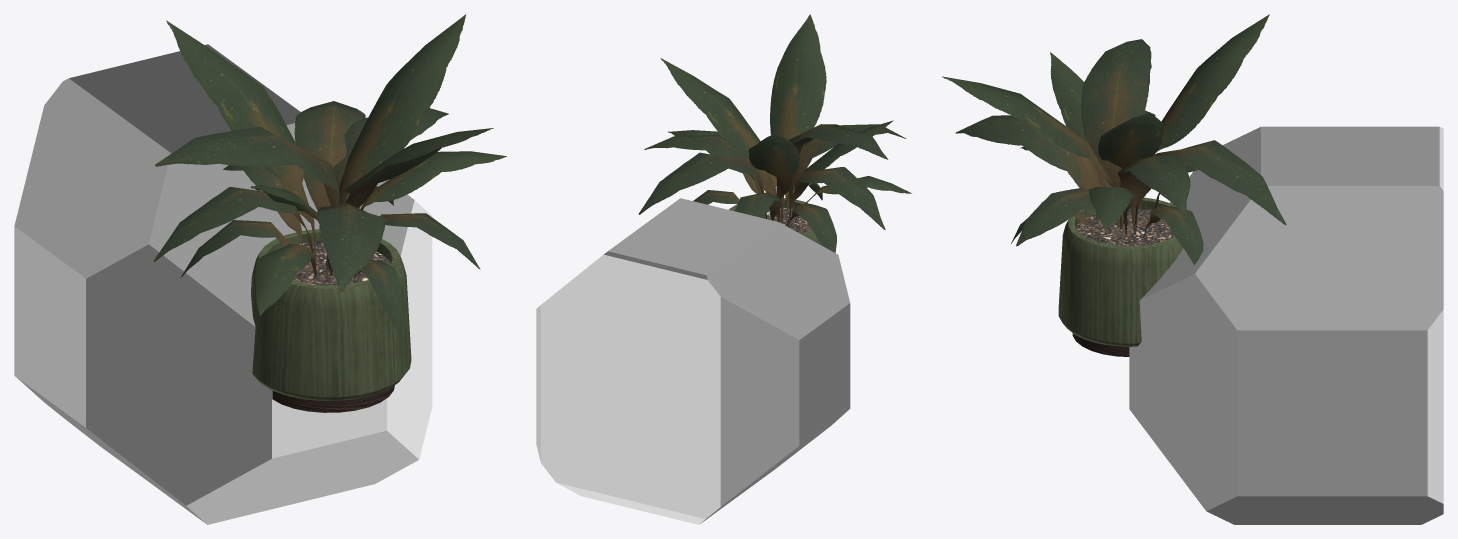
Rendered from SM_NYC2_Flower_02.fbx.
3 renders of one model, left to right at view 1: azimuth 30°, elevation 25°; view 2: azimuth 150°, elevation 25°; view 3: azimuth 270°, elevation 25°, orthographic. The views are drawn at different scales.
Parts seen in each view (by area): view 1: SM_NYC2_Flower_02_ConvexHulls, SM_NYC2_Flower_02_LOD0; view 2: SM_NYC2_Flower_02_ConvexHulls, SM_NYC2_Flower_02_LOD0; view 3: SM_NYC2_Flower_02_ConvexHulls, SM_NYC2_Flower_02_LOD0.
Part boxes in pixels (<box>): SM_NYC2_Flower_02_ConvexHulls: <box>14,44,432,524</box>; SM_NYC2_Flower_02_LOD0: <box>153,14,506,412</box>; SM_NYC2_Flower_02_ConvexHulls: <box>536,198,850,524</box>; SM_NYC2_Flower_02_LOD0: <box>638,14,911,252</box>; SM_NYC2_Flower_02_ConvexHulls: <box>1129,126,1443,524</box>; SM_NYC2_Flower_02_LOD0: <box>942,14,1286,356</box>.
Bounding box in the file's own units: 60.14 × 88.21 × 83.53.
